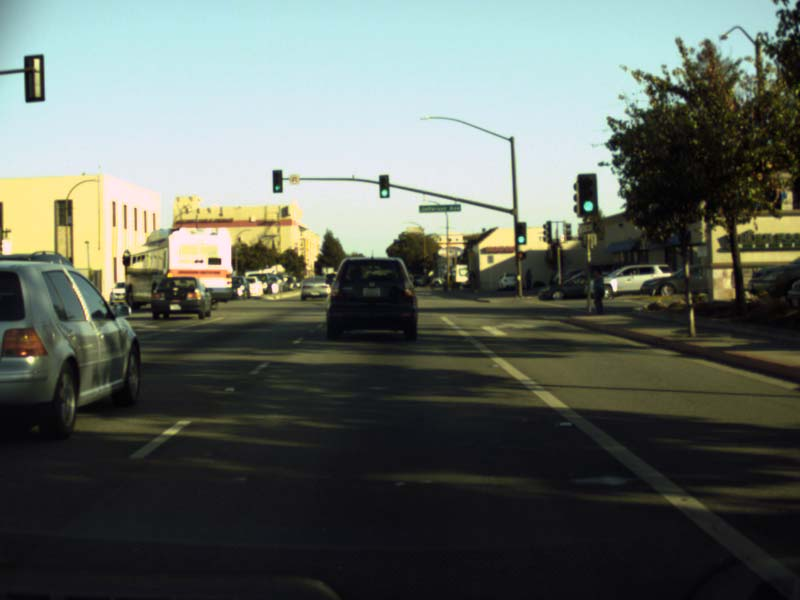Green: (578, 175, 597, 214), (272, 170, 282, 193), (515, 223, 526, 242), (379, 175, 388, 197)
